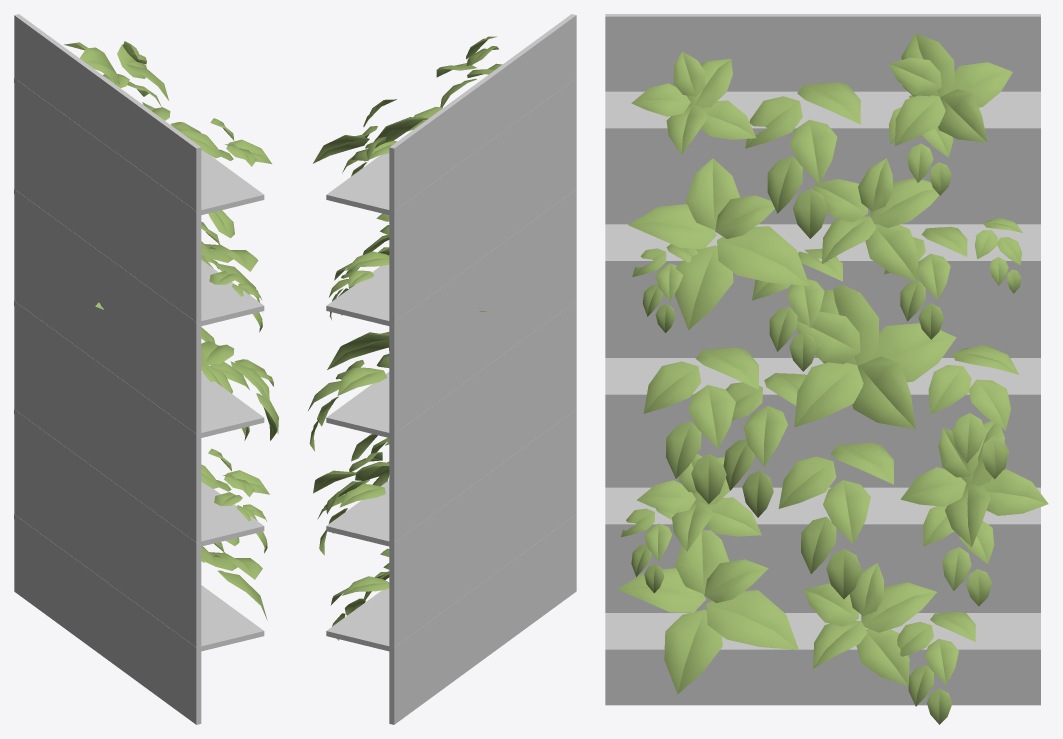
The model's file is Shelf-Plants.fbx.
3 renders of one model, left to right at view 1: azimuth 30°, elevation 25°; view 2: azimuth 150°, elevation 25°; view 3: azimuth 270°, elevation 25°, orthographic. The views are drawn at different scales.
Parts seen in each view (by area): view 1: Shelf-Plants, Plant-hanging.001, Plant-upright, Plant-upright.004, Plant-upright.005, Plant-upright.002, Plant-upright.006, Plant-hanging.010, Plant-hanging.012, Plant-hanging.008; view 2: Shelf-Plants, Plant-upright.004, Plant-upright.008, Plant-hanging.007, Plant-upright.001, Plant-upright.002, Plant-hanging.011, Plant-hanging.005, Plant-hanging, Plant-hanging.004; view 3: Shelf-Plants, Plant-upright.001, Plant-upright, Plant-upright.005, Plant-upright.003, Plant-upright.007, Plant-upright.004, Plant-hanging.001, Plant-hanging.006, Plant-hanging.003, Plant-upright.008, Plant-upright.002 (+11 smaller).
Part boxes in pixels (x1,y1,x2,y2): Shelf-Plants: (14, 14, 264, 724); Plant-hanging.001: (201, 341, 278, 440); Plant-upright: (201, 210, 259, 302); Plant-upright.004: (64, 41, 168, 100); Plant-upright.005: (201, 537, 267, 620); Plant-upright.002: (178, 118, 271, 166); Plant-upright.006: (201, 448, 269, 497); Plant-hanging.010: (201, 362, 249, 440); Plant-hanging.012: (214, 492, 267, 553); Plant-hanging.008: (209, 271, 262, 332); Shelf-Plants: (326, 14, 576, 724); Plant-upright.004: (313, 99, 428, 163); Plant-upright.008: (313, 434, 389, 513); Plant-hanging.007: (308, 360, 387, 451); Plant-upright.001: (327, 311, 486, 369); Plant-upright.002: (436, 36, 502, 107); Plant-hanging.011: (317, 479, 385, 555); Plant-hanging.005: (330, 572, 389, 640); Plant-hanging: (334, 247, 389, 315); Plant-hanging.004: (329, 266, 374, 319); Shelf-Plants: (605, 14, 1040, 705); Plant-upright.001: (794, 285, 956, 429); Plant-upright: (628, 158, 809, 329); Plant-upright.005: (617, 530, 798, 694); Plant-upright.003: (812, 158, 939, 281); Plant-upright.007: (804, 563, 936, 686); Plant-upright.004: (889, 33, 1012, 145); Plant-hanging.001: (643, 347, 758, 503); Plant-hanging.006: (778, 442, 893, 599); Plant-hanging.003: (745, 82, 860, 238); Plant-upright.008: (900, 421, 1048, 547); Plant-upright.002: (631, 51, 756, 154).
Bounding box in the file's own units: 0.5403 × 2.27 × 1.32.
